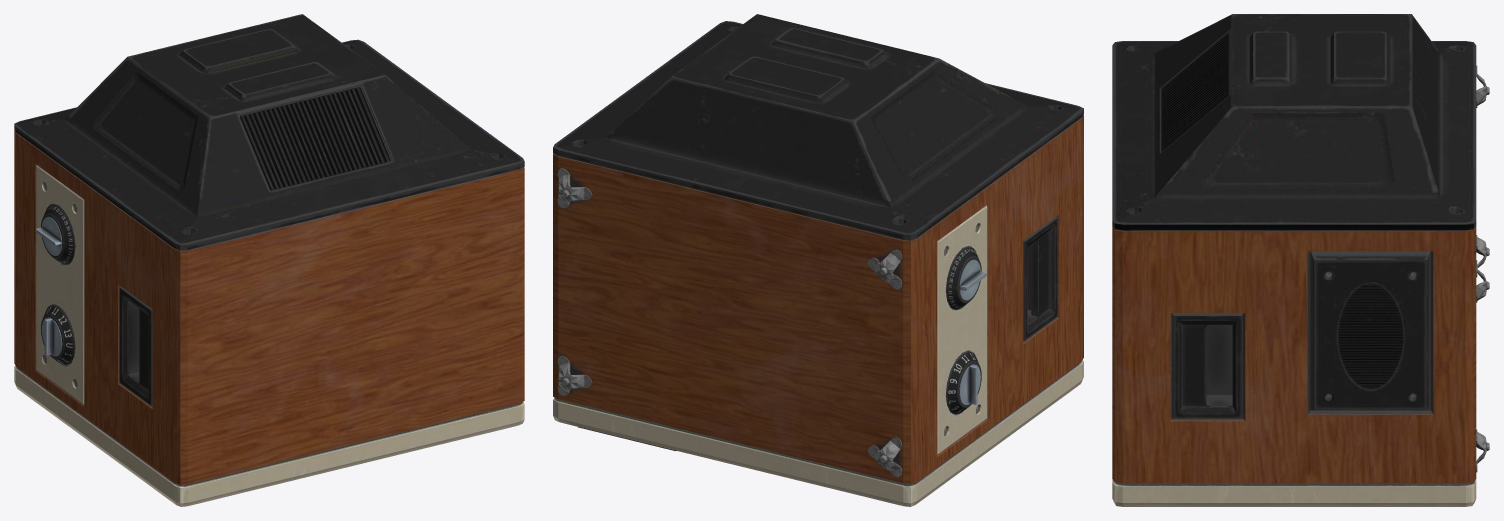
The model's file is televisor.obj.
3 renders of one model, left to right at view 1: azimuth 30°, elevation 25°; view 2: azimuth 150°, elevation 25°; view 3: azimuth 270°, elevation 25°, orthographic. The views are drawn at different scales.
Visible parts, largest first — view 1: defaultMaterial, defaultMaterial11, defaultMaterial12, defaultMaterial6, defaultMaterial4, defaultMaterial8, defaultMaterial9, defaultMaterial10; view 2: defaultMaterial, defaultMaterial11, defaultMaterial12, defaultMaterial6, defaultMaterial4, defaultMaterial0, defaultMaterial8, defaultMaterial10, defaultMaterial9; view 3: defaultMaterial11, defaultMaterial, defaultMaterial5, defaultMaterial12, defaultMaterial4, defaultMaterial0.
Boxes of the visible parts, x1=… form: defaultMaterial: x1=14, y1=130, x2=524, y2=484; defaultMaterial11: x1=14, y1=14, x2=524, y2=250; defaultMaterial12: x1=14, y1=366, x2=524, y2=506; defaultMaterial6: x1=36, y1=165, x2=84, y2=404; defaultMaterial4: x1=119, y1=286, x2=152, y2=405; defaultMaterial8: x1=40, y1=204, x2=75, y2=365; defaultMaterial9: x1=41, y1=317, x2=62, y2=356; defaultMaterial10: x1=35, y1=216, x2=62, y2=255; defaultMaterial: x1=553, y1=115, x2=1083, y2=483; defaultMaterial11: x1=553, y1=14, x2=1083, y2=240; defaultMaterial12: x1=553, y1=360, x2=1083, y2=506; defaultMaterial6: x1=937, y1=205, x2=987, y2=454; defaultMaterial4: x1=1023, y1=216, x2=1057, y2=340; defaultMaterial0: x1=557, y1=168, x2=902, y2=477; defaultMaterial8: x1=946, y1=246, x2=981, y2=414; defaultMaterial10: x1=959, y1=259, x2=986, y2=300; defaultMaterial9: x1=959, y1=364, x2=980, y2=404; defaultMaterial11: x1=1112, y1=14, x2=1476, y2=230; defaultMaterial: x1=1112, y1=226, x2=1476, y2=483; defaultMaterial5: x1=1310, y1=251, x2=1430, y2=410; defaultMaterial12: x1=1112, y1=479, x2=1476, y2=506; defaultMaterial4: x1=1172, y1=313, x2=1243, y2=418; defaultMaterial0: x1=1476, y1=65, x2=1489, y2=472.
Bounding box in the file's own units: 2 × 1.81 × 1.66.
Materials: 1 (1 with a texture image).
